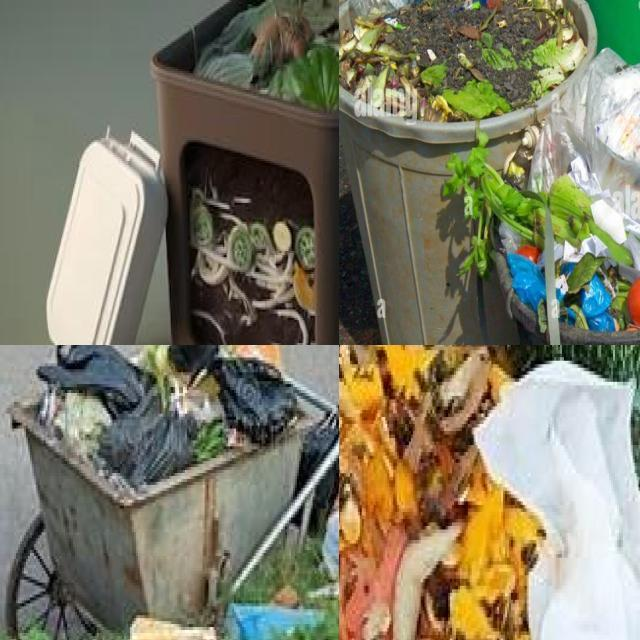Garbage: (339, 0, 640, 345), (339, 345, 640, 640), (16, 345, 312, 495), (194, 0, 339, 110)
Plastic_Bag: (38, 345, 195, 488), (531, 48, 640, 223), (168, 345, 297, 443), (508, 255, 546, 311), (579, 273, 615, 330), (561, 303, 576, 324)
Plastic_wraper: (471, 361, 640, 640)
